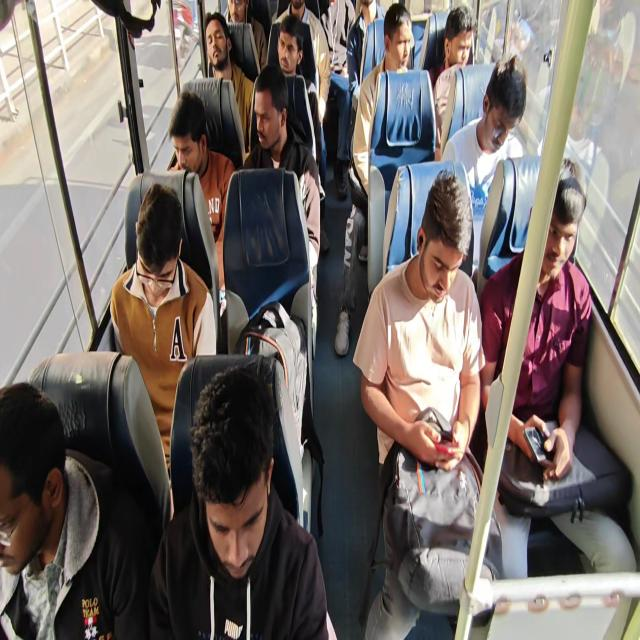person: (184, 380, 316, 638), (0, 376, 90, 640), (526, 178, 614, 402), (404, 186, 510, 358), (467, 57, 536, 201), (131, 191, 198, 337), (165, 88, 224, 194), (253, 88, 293, 156), (387, 12, 425, 74), (436, 18, 472, 82), (200, 18, 236, 79), (325, 0, 357, 50), (279, 31, 308, 81), (223, 0, 259, 34), (285, 0, 315, 37), (356, 0, 382, 34)
